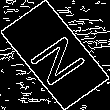N_NE: (20, 24, 90, 86)
